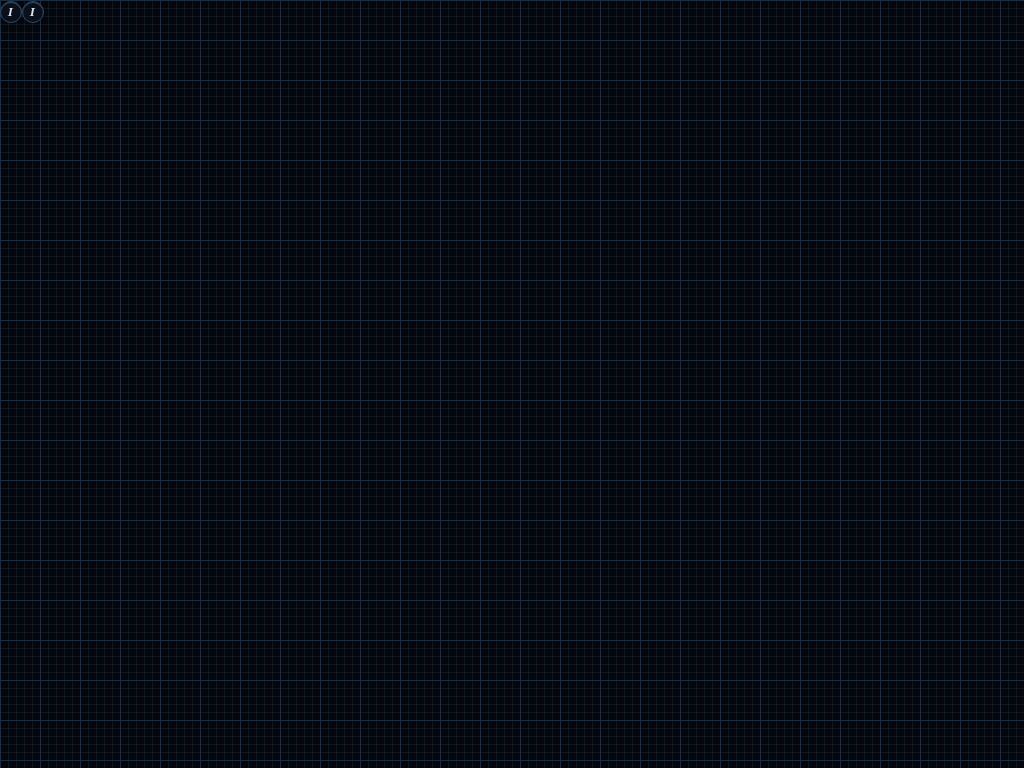
Scenario: InfoPopover › opening a second (i) closes the first, so only one is open
Click the button named "About A".
click(11, 12)  # box [0, 1, 22, 23]
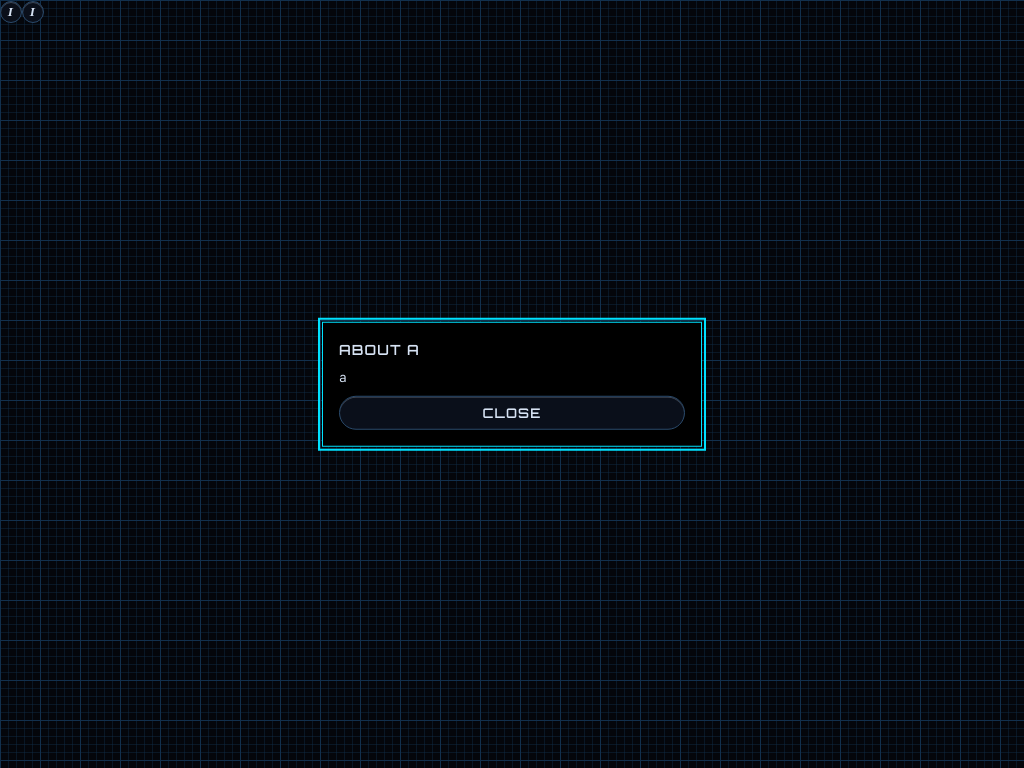
Expected: the number of dialogs is 1, [322, 322, 702, 446]
Click the button named "About B".
click(33, 12)  # box [22, 1, 44, 23]
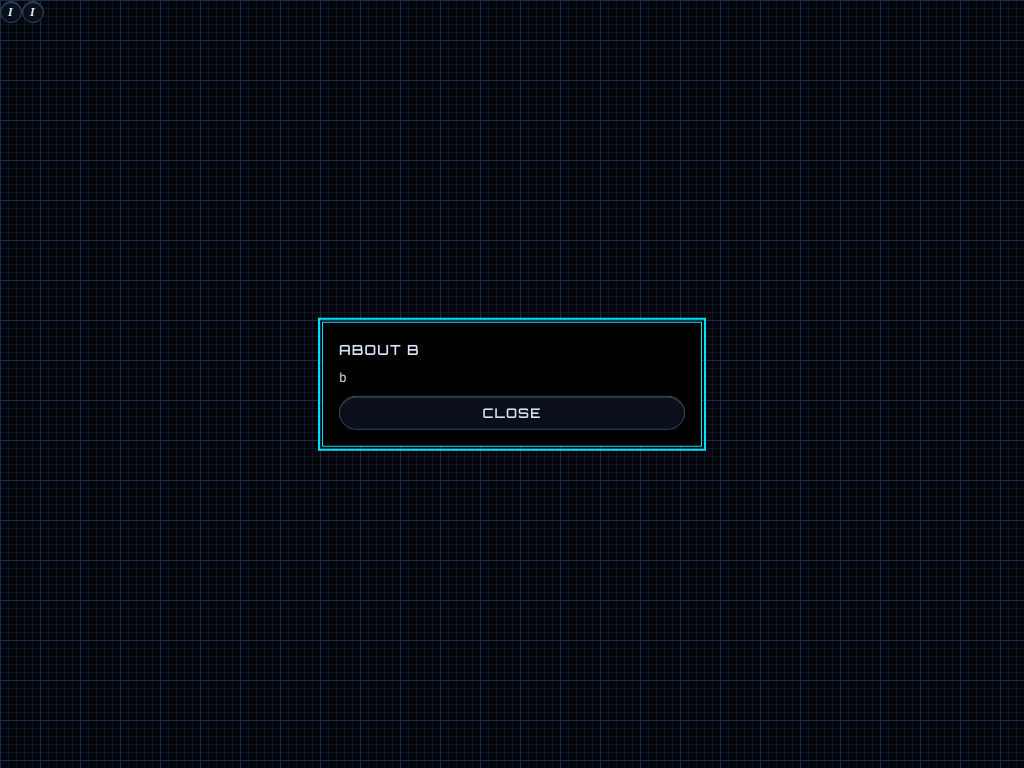
Expected: the number of dialogs is 1, [322, 322, 702, 446]
Expected: the dialog shows "About B", [339, 341, 420, 358]
